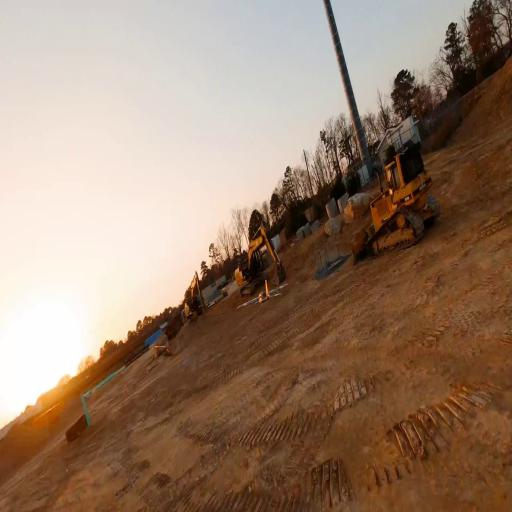uav: (236, 280, 288, 312)
